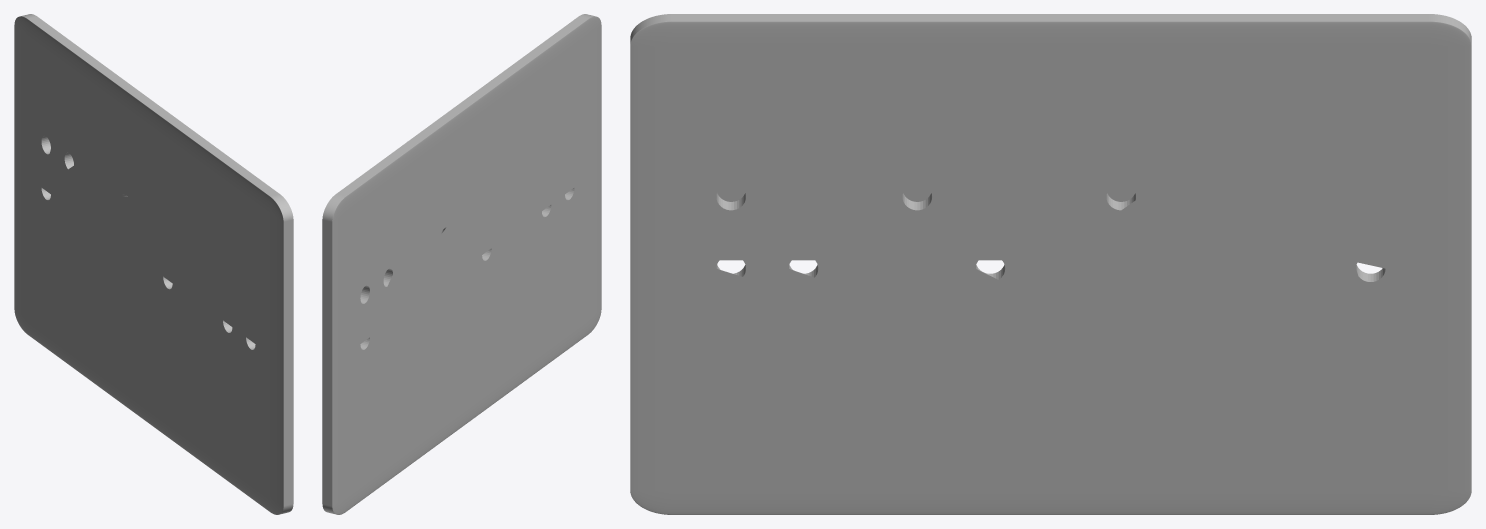
File: headCard.fbx
3 renders of one model, left to right at view 1: azimuth 30°, elevation 25°; view 2: azimuth 150°, elevation 25°; view 3: azimuth 270°, elevation 25°, orthographic. The views are drawn at different scales.
Parts seen in each view (by area): view 1: Cube.005; view 2: Cube.005; view 3: Cube.005.
Boxes of the visible parts, x1,y1,x2,y2 form: Cube.005: (14,14,293,514); Cube.005: (322,14,601,514); Cube.005: (630,14,1471,514).
Size of the model in its own units: 0.2 by 5.5 by 8.5.
